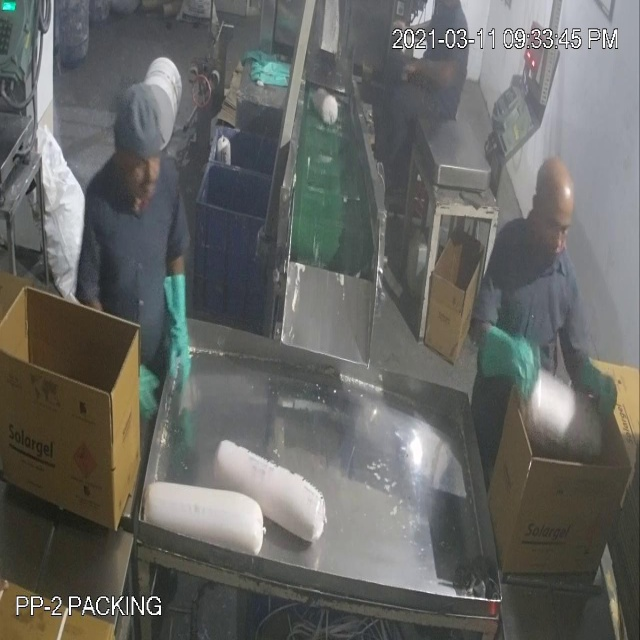Guantes: (485, 309, 540, 407), (577, 340, 627, 435)
Sin_guantes: (399, 47, 472, 109)
